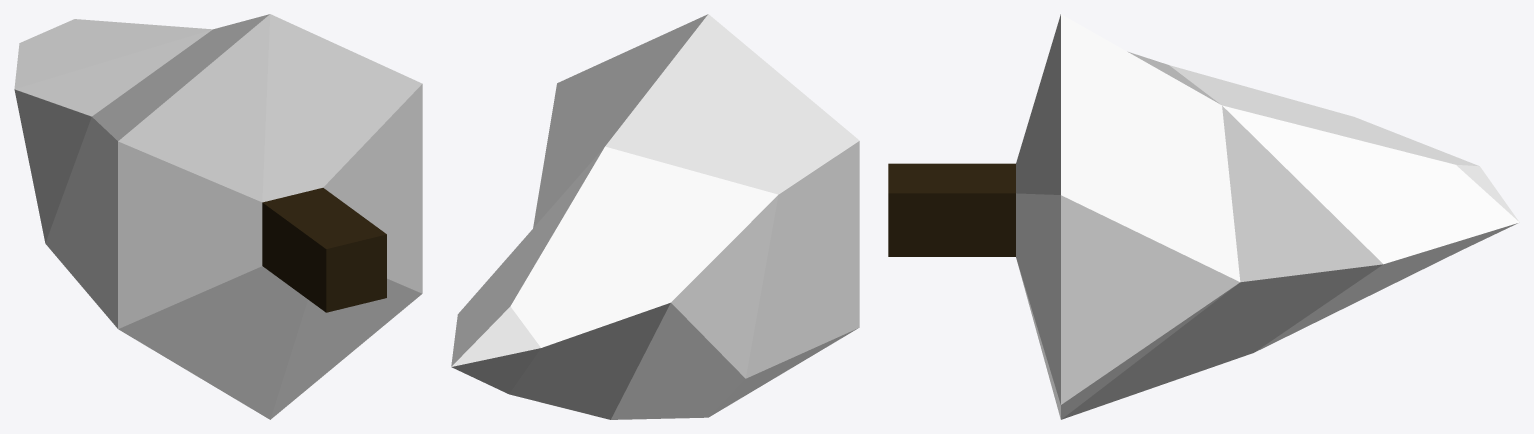
File: winter_night_tree_4.fbx
3 views of the same model, side by side, from view 1: azimuth 30°, elevation 25°; view 2: azimuth 150°, elevation 25°; view 3: azimuth 270°, elevation 25° (orthographic).
Visible parts, largest first — view 1: winter_night_tree_4; view 2: winter_night_tree_4; view 3: winter_night_tree_4.
Part boxes in pixels (x1,y1,x2,y2): winter_night_tree_4: [14, 14, 422, 419]; winter_night_tree_4: [451, 14, 859, 419]; winter_night_tree_4: [888, 14, 1519, 419].
Size of the model in its own units: 104 by 132 by 187.
